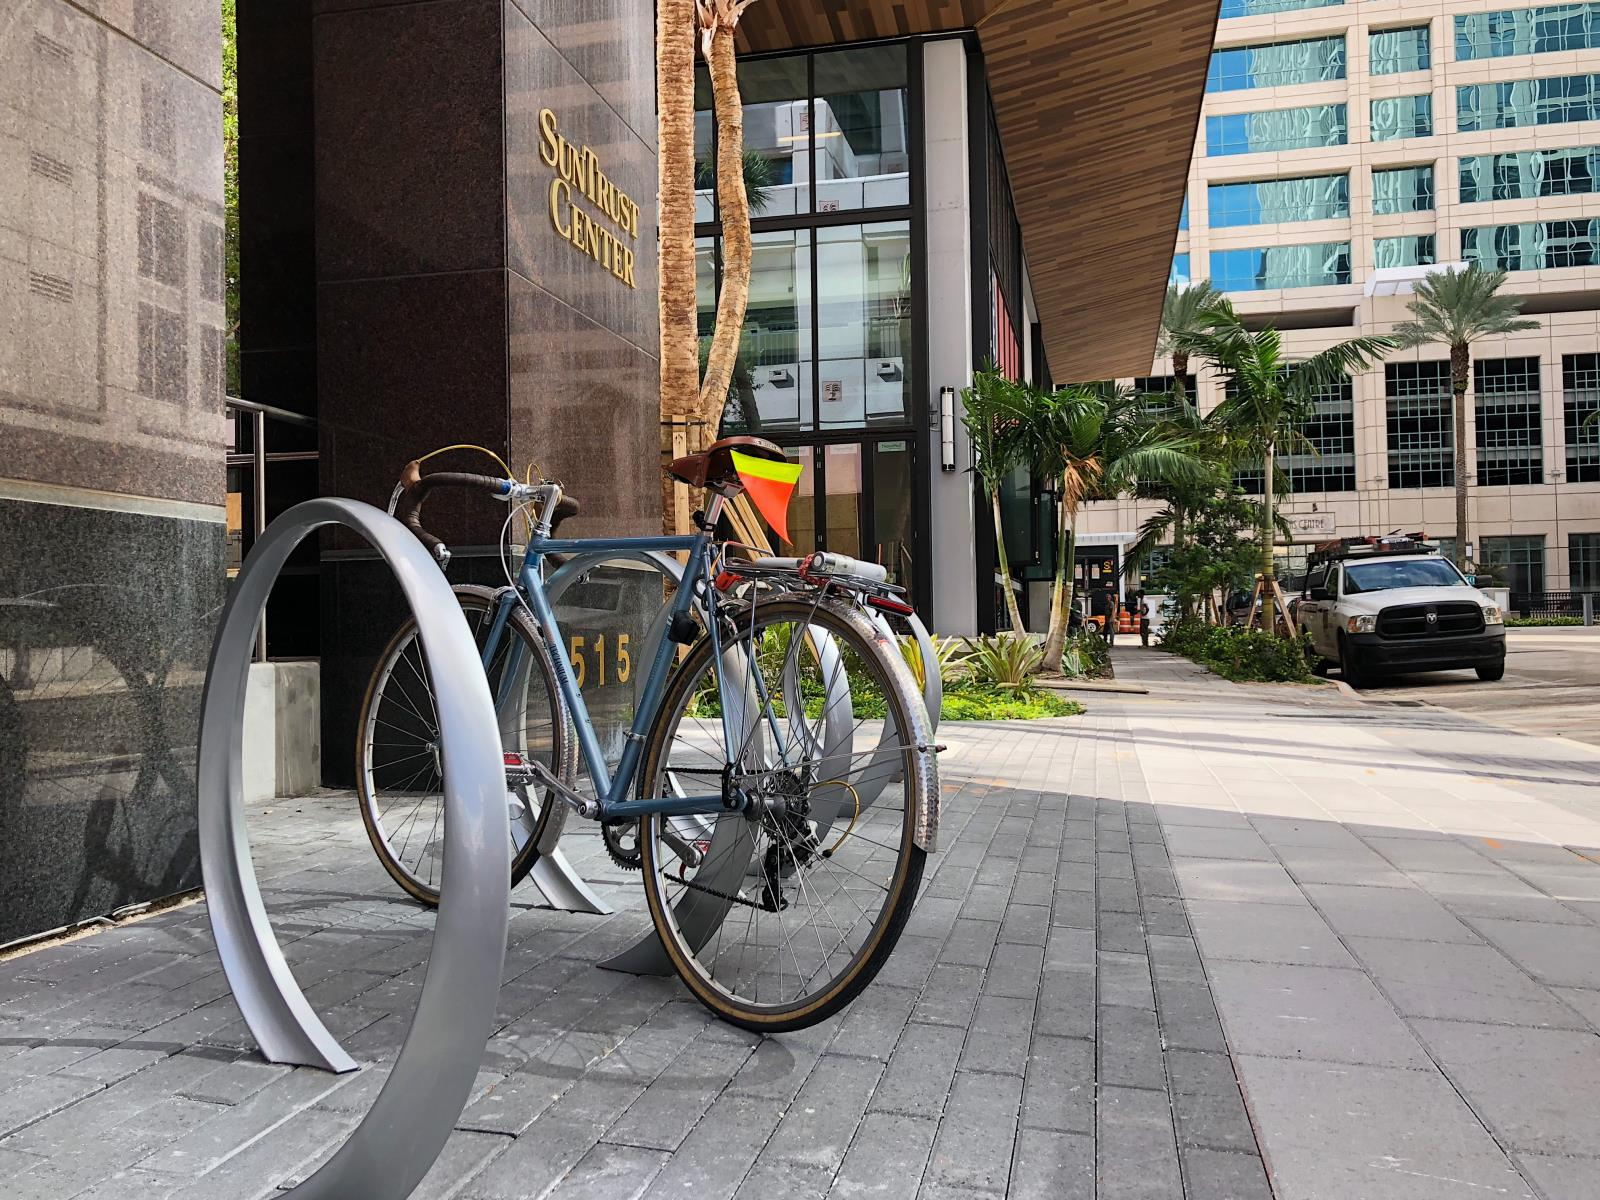bike: (336, 408, 1000, 1050)
